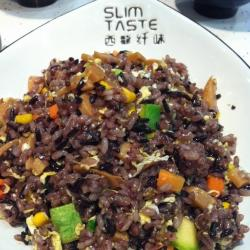rice: (31, 95, 236, 245)
